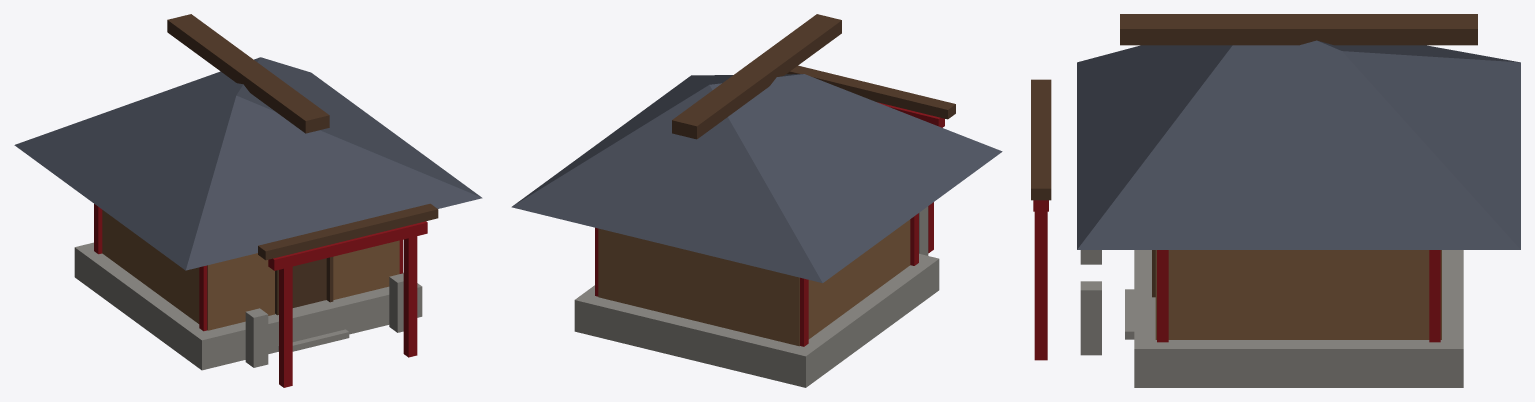
File: SM_K_HouseF_Shrine.obj
3 views of the same model, side by side, from view 1: azimuth 30°, elevation 25°; view 2: azimuth 150°, elevation 25°; view 3: azimuth 270°, elevation 25° (orthographic). The views are drawn at different scales.
Parts seen in each view (by area): view 1: SM_K_HouseF_Shrine; view 2: SM_K_HouseF_Shrine; view 3: SM_K_HouseF_Shrine.
Boxes of the visible parts, x1,y1,x2,y2 form: SM_K_HouseF_Shrine: (14, 14, 482, 387); SM_K_HouseF_Shrine: (511, 14, 1002, 387); SM_K_HouseF_Shrine: (1031, 14, 1520, 387).
Size of the model in its own units: 6.2 by 4.57 by 6.84.
